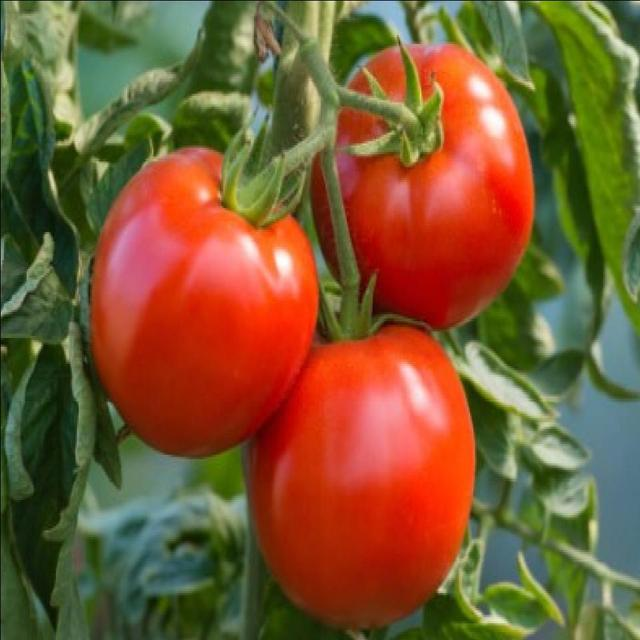Healthy Fruit: (127, 113, 281, 318)
